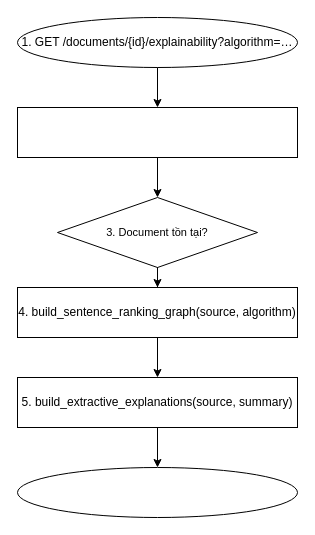
Some shapes in this 315 by 535 pixel diagram are drawn without their labels. The shapes that lost their labels are listed below. From the top down, each one's centre as x and y in pixels, then its label:
At (157,132): "2. get_document(document_id) → clean_text".
At (157,492): "6. Phản hồi HTTP 200 {ranking_graph, explanations}".
